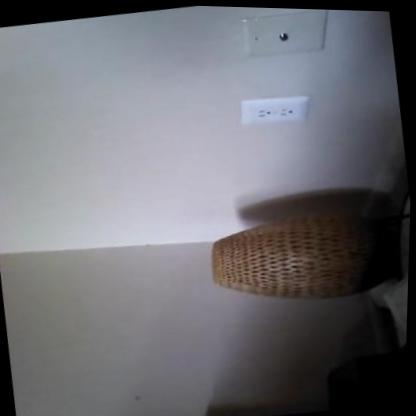OUTLET: (235, 91, 312, 129)
